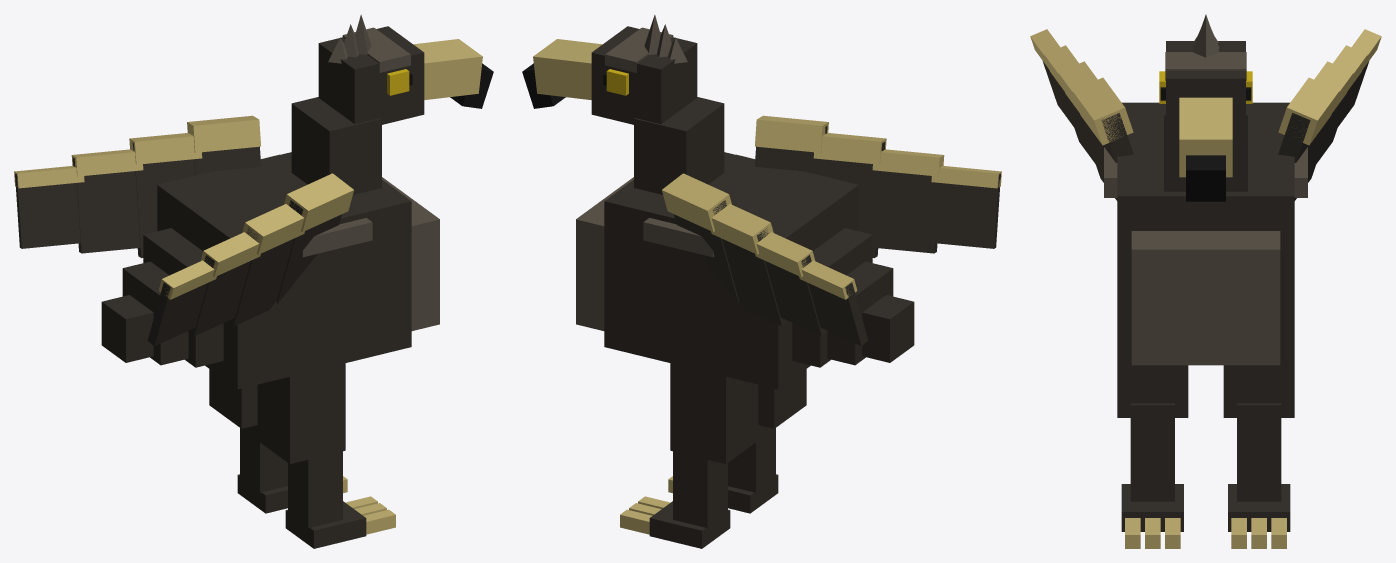
File: roc.glb
3 renders of one model, left to right at view 1: azimuth 30°, elevation 25°; view 2: azimuth 150°, elevation 25°; view 3: azimuth 270°, elevation 25°, orthographic. The views are drawn at different scales.
Visible parts, largest first — view 1: geometry_0; view 2: geometry_0; view 3: geometry_0.
Part boxes in pixels (left/top/right/bottom): geometry_0: left=14, top=14, right=493, bottom=548; geometry_0: left=522, top=14, right=1001, bottom=548; geometry_0: left=1030, top=14, right=1381, bottom=548.
Bounding box in the file's own units: 1.15 × 1.33 × 0.7932.
